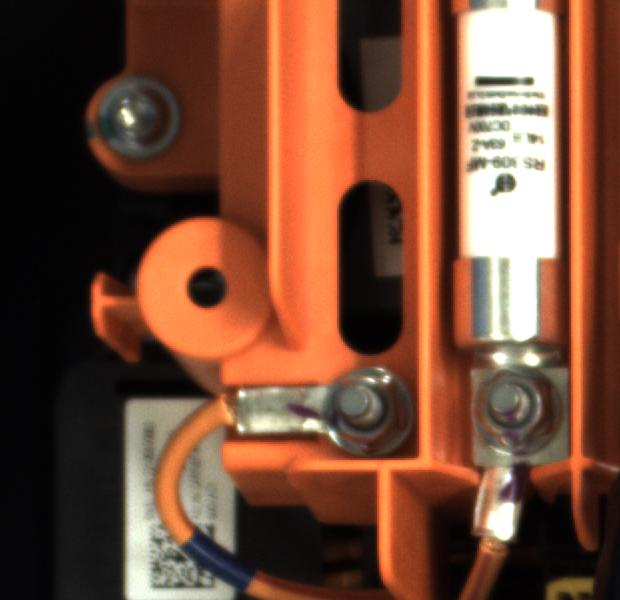screw_m: (81, 66, 198, 170)
screw_s: (459, 361, 569, 456), (314, 372, 421, 458)
